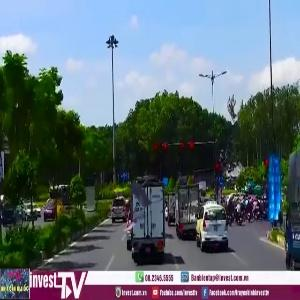drone: (98, 161, 173, 236)
